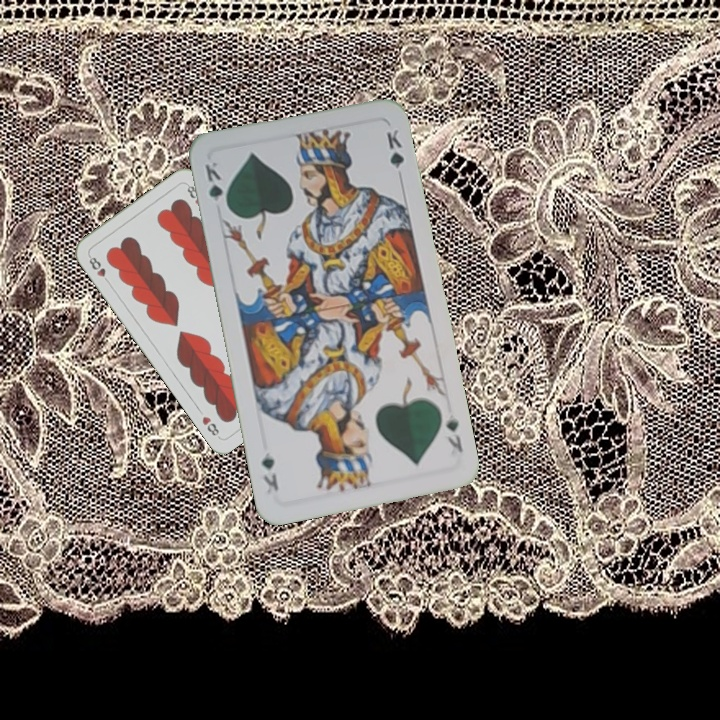GK: (201, 157, 231, 213), (440, 413, 466, 456)
H8: (85, 251, 113, 287)
